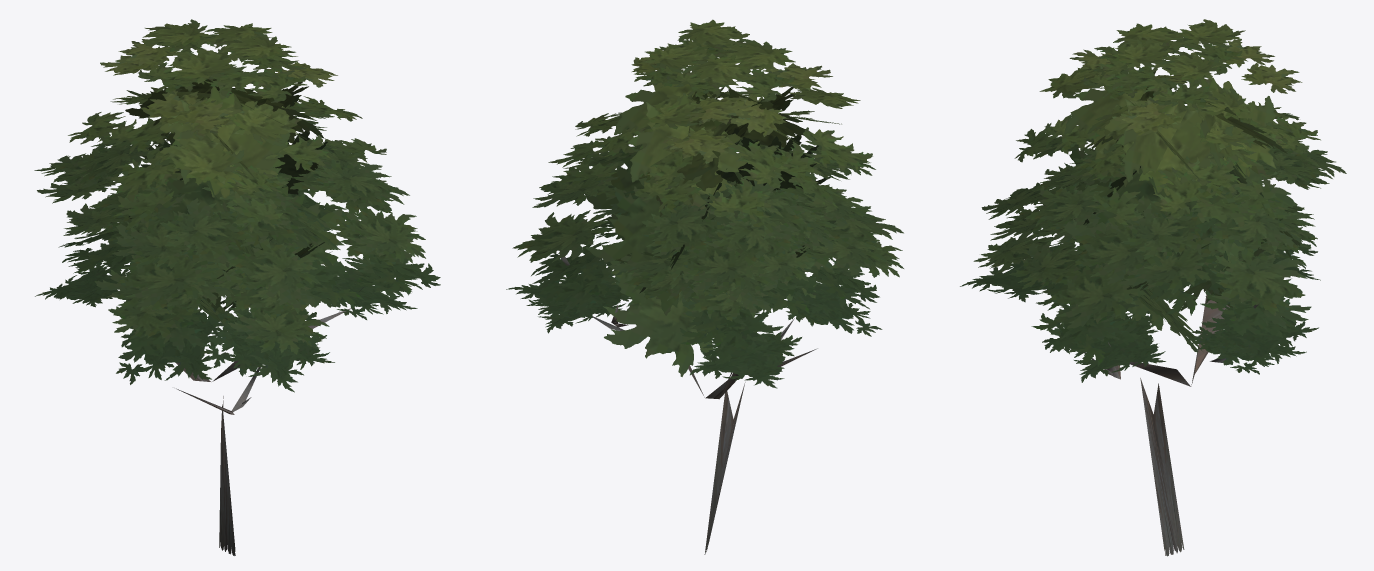
File: tree_oak_02.glb
3 views of the same model, side by side, from view 1: azimuth 30°, elevation 25°; view 2: azimuth 150°, elevation 25°; view 3: azimuth 270°, elevation 25° (orthographic).
Visible parts, largest first — view 1: tree_oak_02; view 2: tree_oak_02; view 3: tree_oak_02.
Boxes of the visible parts, box(x1,y1,x2,y2) form: tree_oak_02: box(34, 19, 440, 555); tree_oak_02: box(506, 19, 903, 554); tree_oak_02: box(960, 19, 1346, 556).
Bounding box in the file's own units: 6.55 × 9.52 × 6.94.
Materials: 1 (1 with a texture image).
